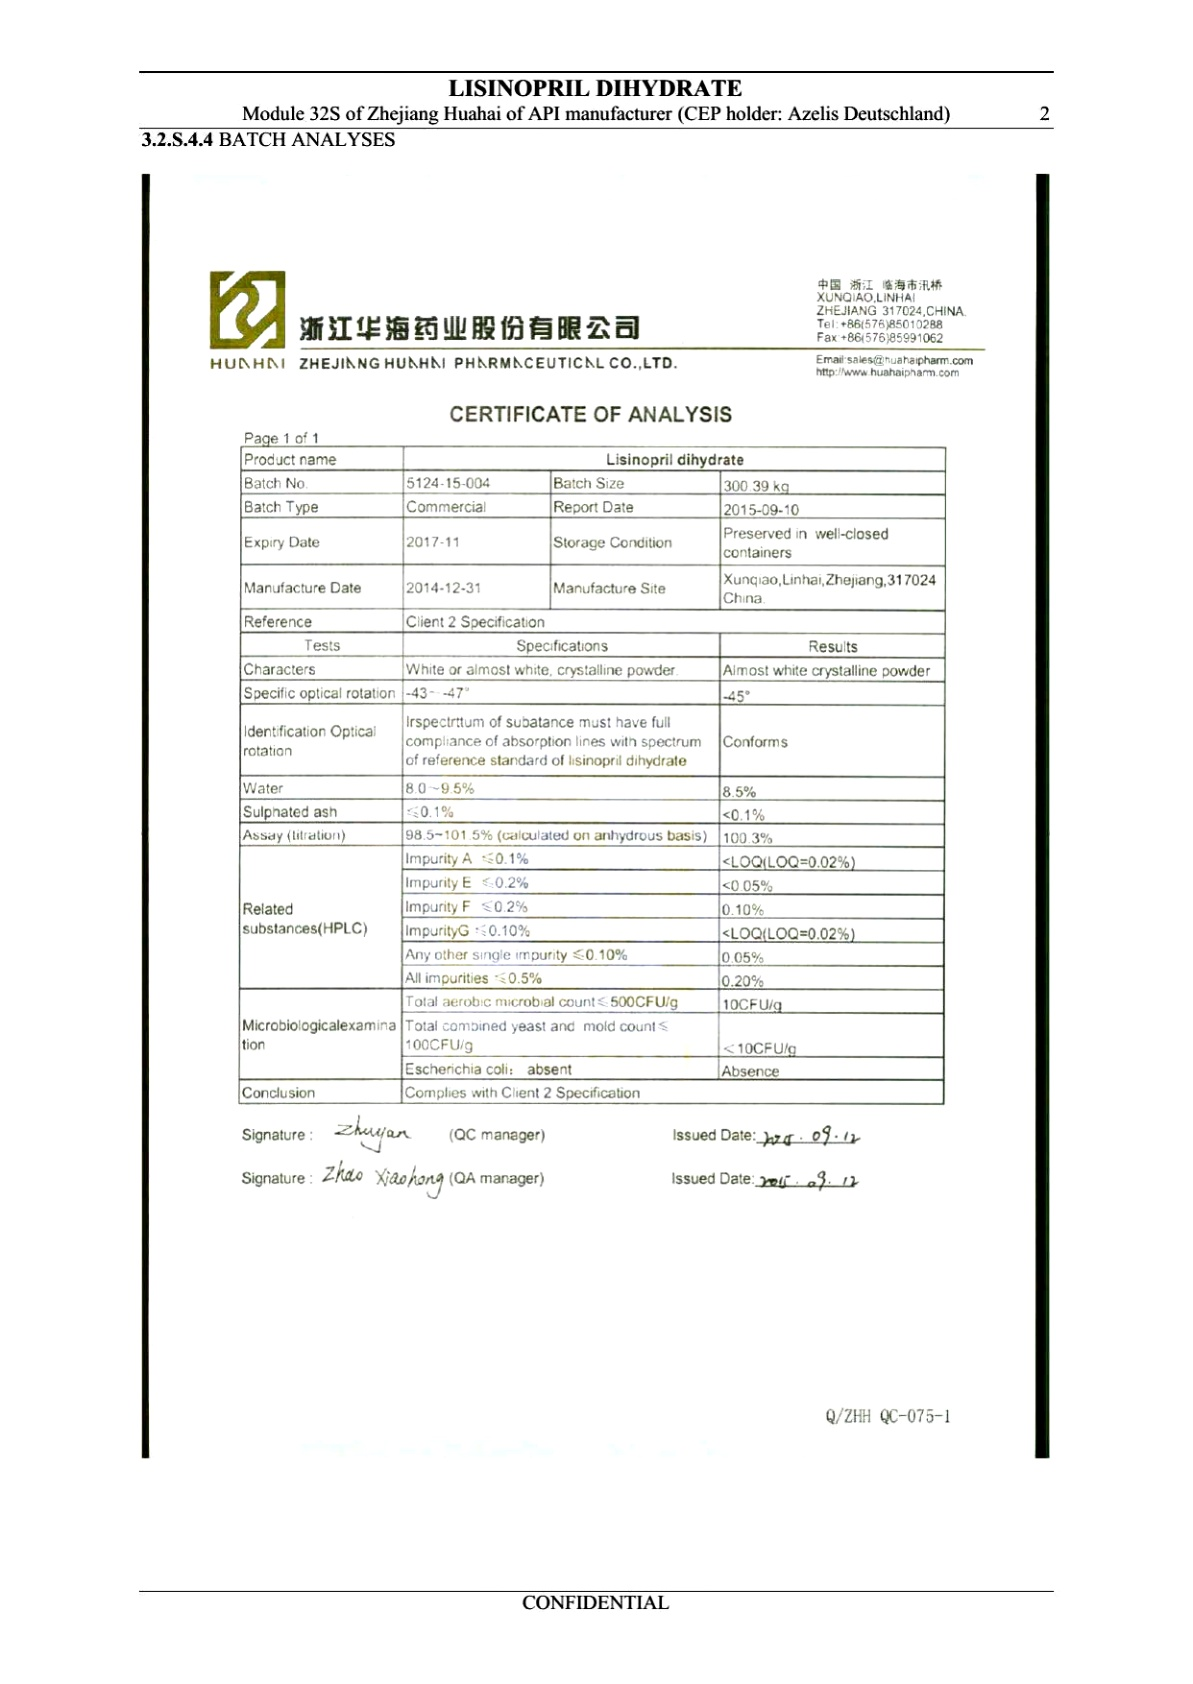merged_cells: (238, 443, 946, 1105)
